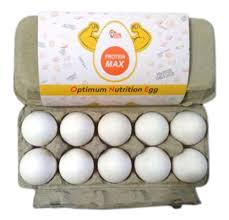eggs: (21, 150, 60, 190), (20, 110, 62, 147), (57, 144, 95, 183), (133, 150, 172, 185), (98, 111, 135, 146), (137, 110, 172, 146), (61, 108, 94, 146), (96, 148, 132, 182), (172, 148, 209, 181), (170, 108, 201, 142)
